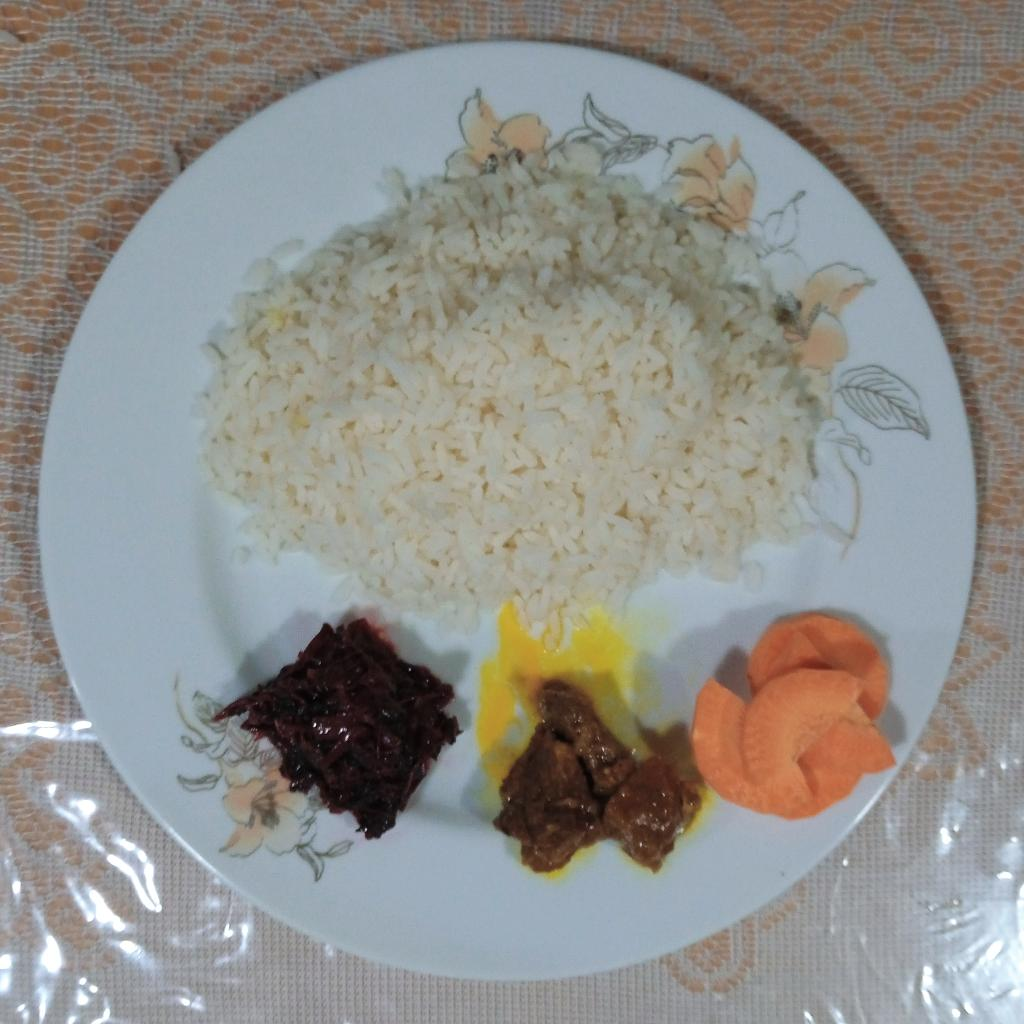beef: (492, 682, 701, 874)
carrot: (691, 611, 897, 820)
rice: (189, 146, 816, 650)
shak: (207, 616, 463, 841)
